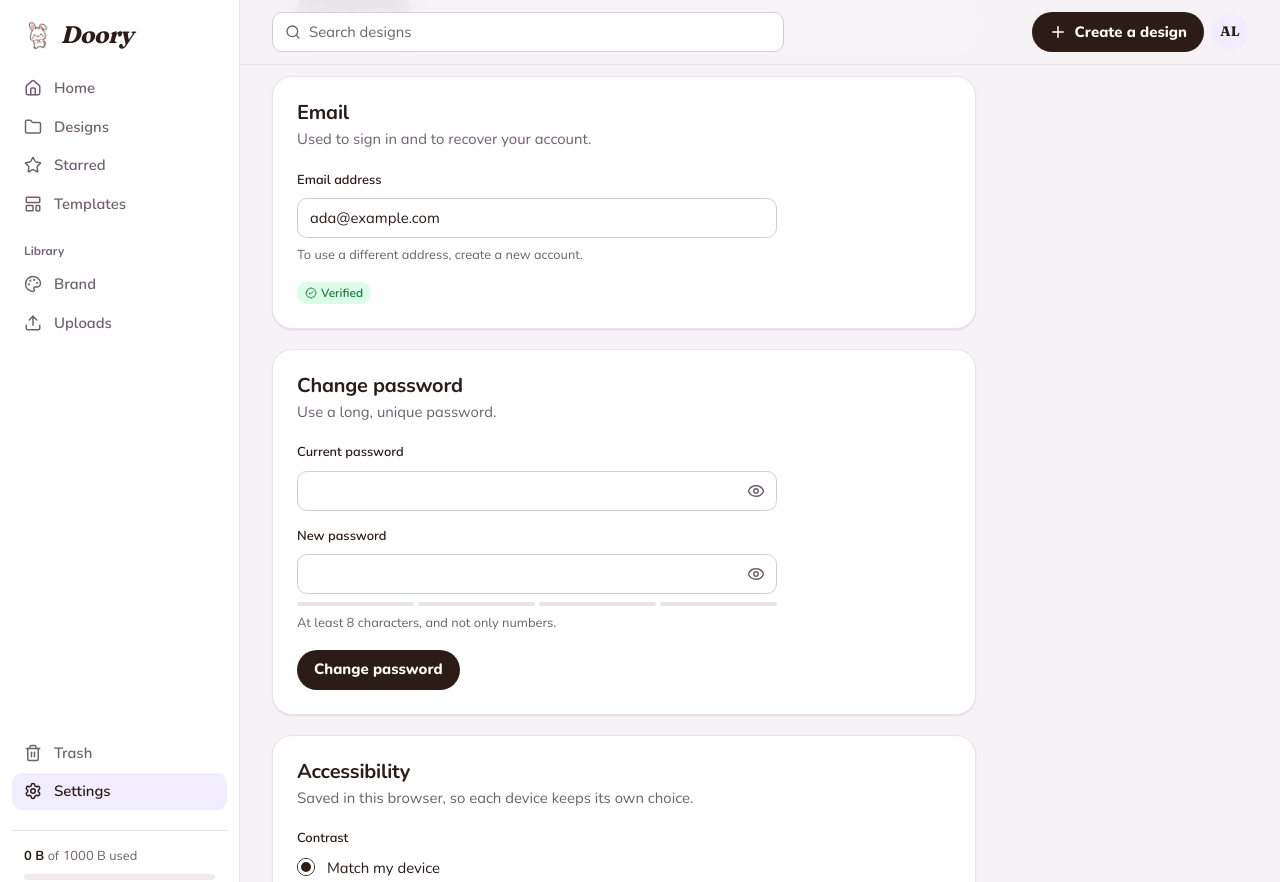
settings: password › shows a wrong-current-password error next to its field
(page scrolled)
Type "nope" into the password field labelled "Current password" at coordinates (521, 491), box [310, 472, 732, 510]
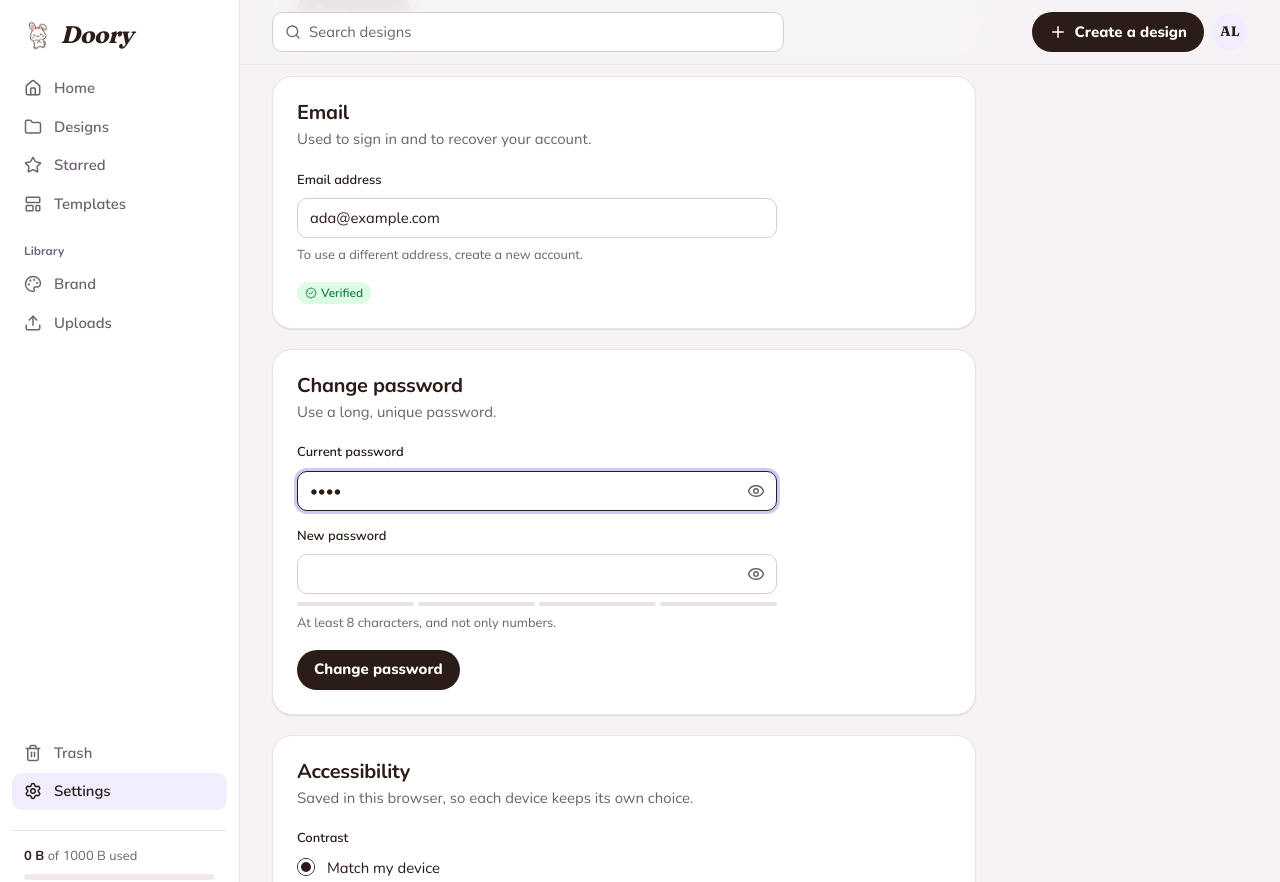
Type "new-secret-123" into the password field labelled "New password" at coordinates (521, 574), box [310, 555, 732, 593]
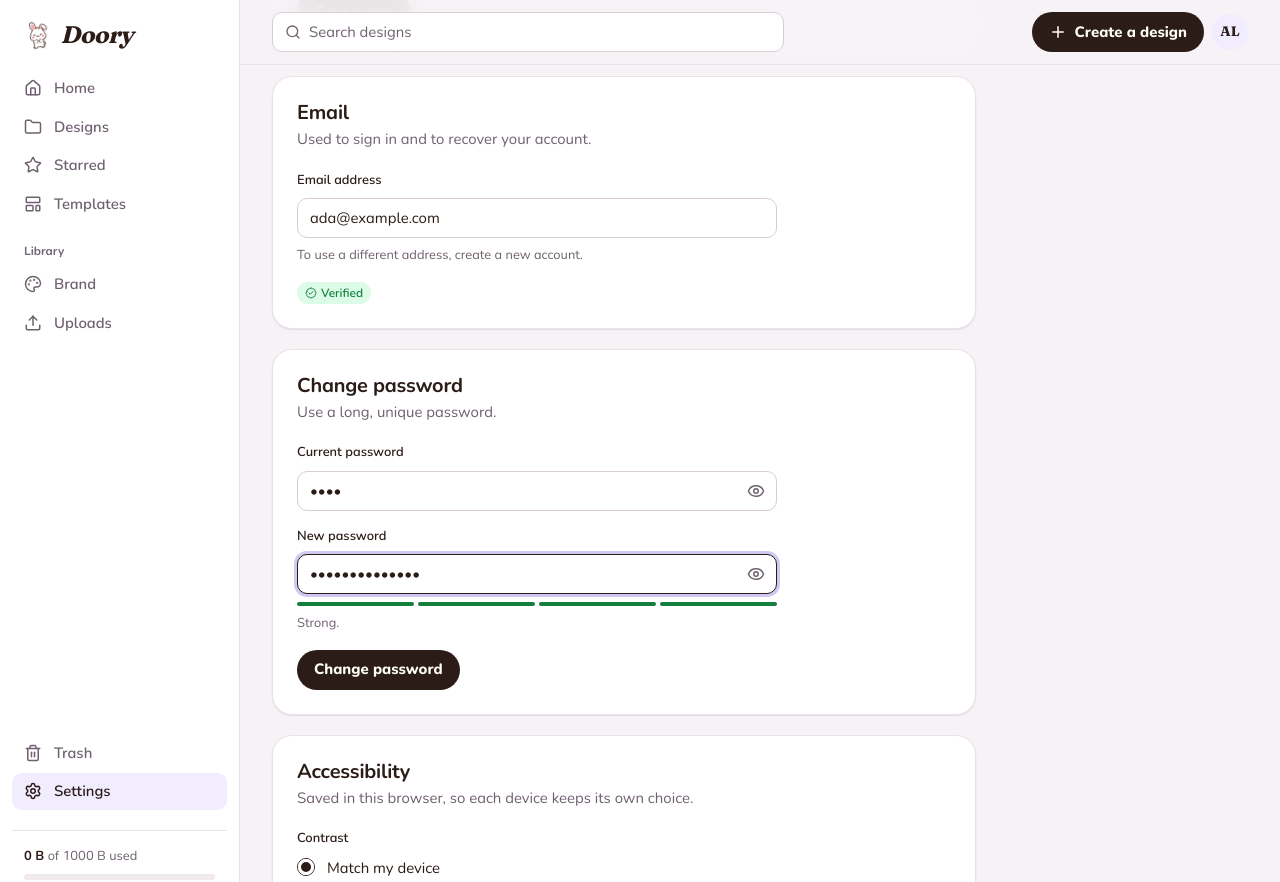
Click the button "Change password" at coordinates (378, 670), box [297, 650, 460, 690]
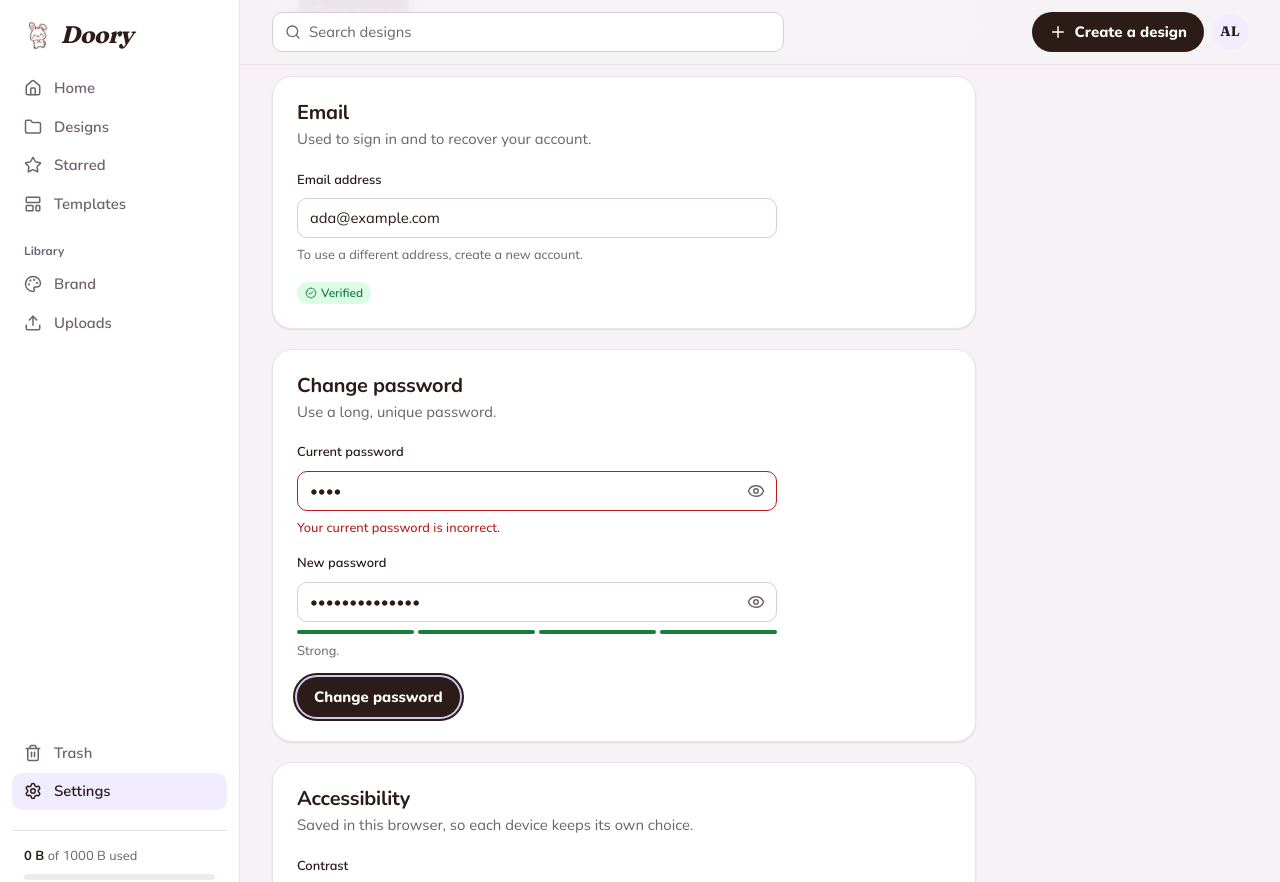
Result: the text "Your current password is incorrect." is shown at [297, 519, 500, 537]
